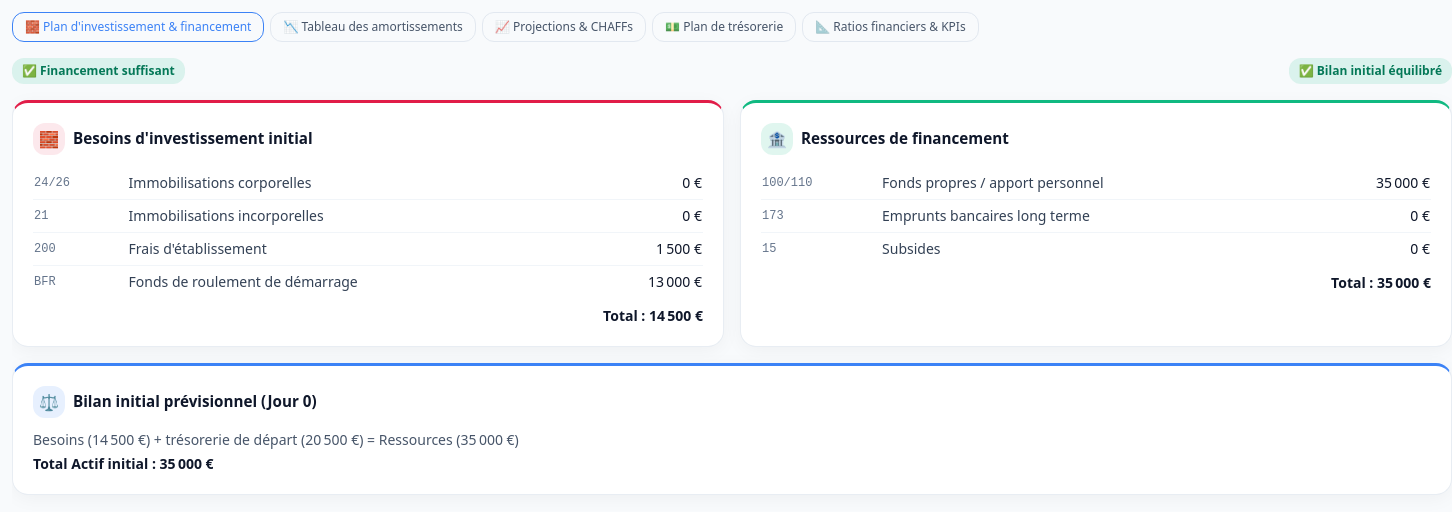
Test: TfeFeasibilityPanel / the tabs › switches to the depreciation schedule
The width and height of the screenshot is (1452, 512).
Click the tab with test id "tfe-tab-depreciation". click: {"x": 373, "y": 27}
box: top-left (270, 12), bottom-right (476, 42)
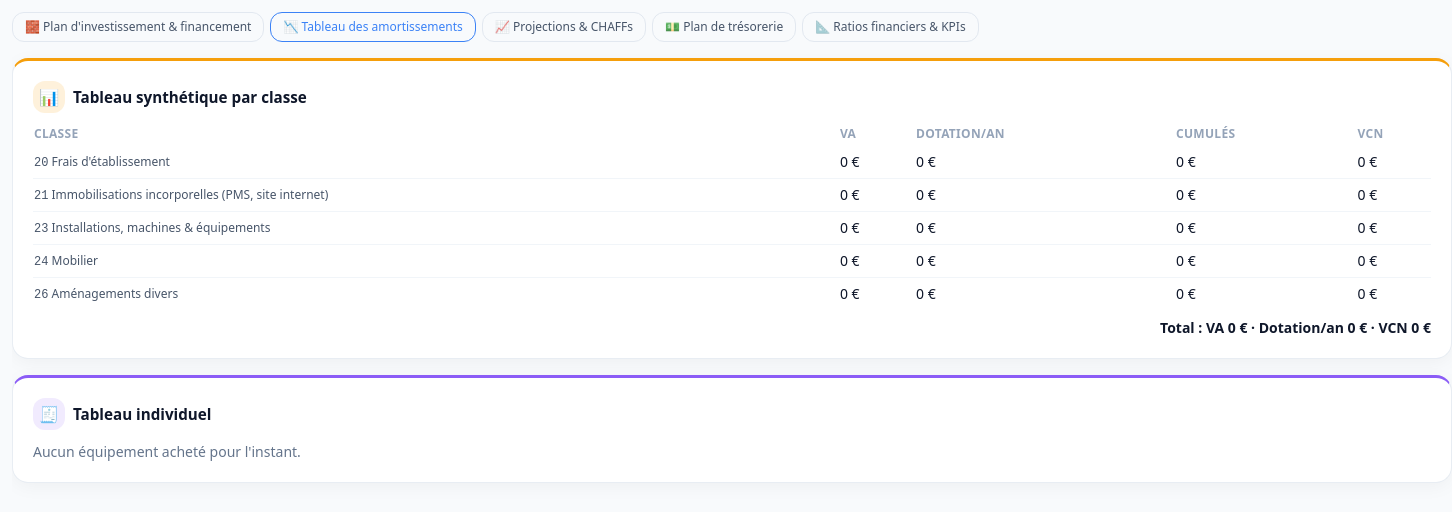
Expected: the element with test id "tfe-depreciation-summary" is shown, top-left (12, 58), bottom-right (1451, 359)
Expected: the element with test id "tfe-needs-card" is gone
